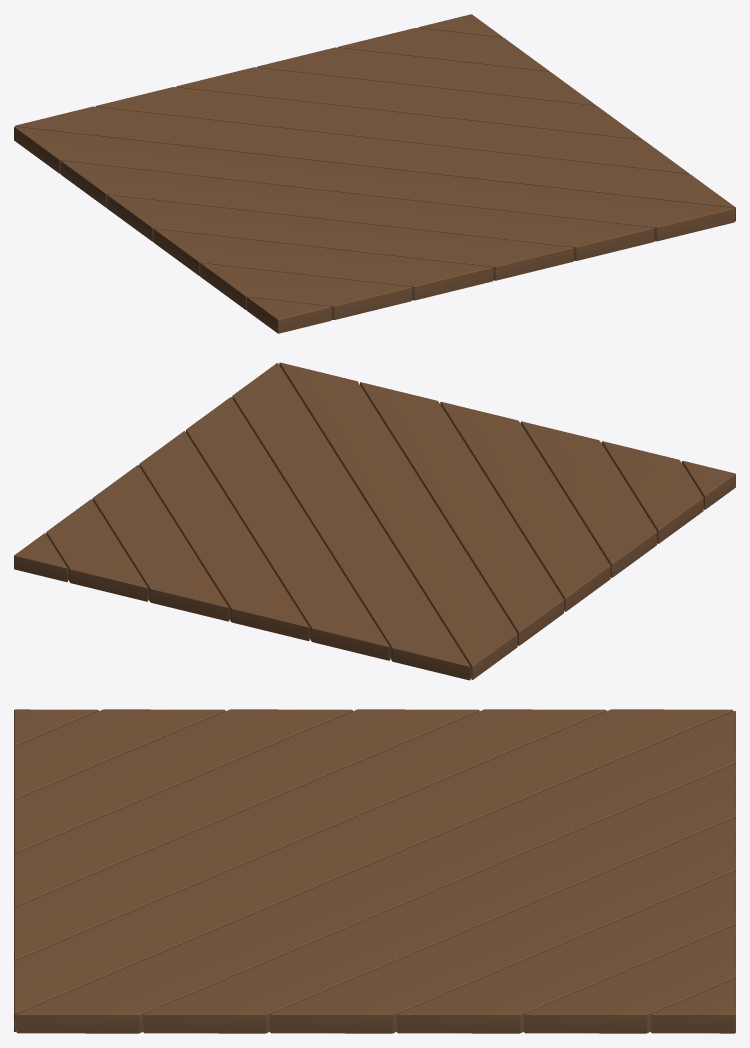
File: Floor_woodbrown.glb
3 views of the same model, one above another, from view 1: azimuth 30°, elevation 25°; view 2: azimuth 150°, elevation 25°; view 3: azimuth 270°, elevation 25° (orthographic). The views are drawn at different scales.
Parts seen in each view (by area): view 1: Floor_9; view 2: Floor_9; view 3: Floor_9.
Part boxes in pixels (x1=…): Floor_9: x1=14, y1=14, x2=735, y2=333; Floor_9: x1=14, y1=362, x2=735, y2=680; Floor_9: x1=14, y1=709, x2=735, y2=1033.
Size of the model in its own units: 4.96 by 0.15 by 4.96.
Materials: 1 (1 with a texture image).
